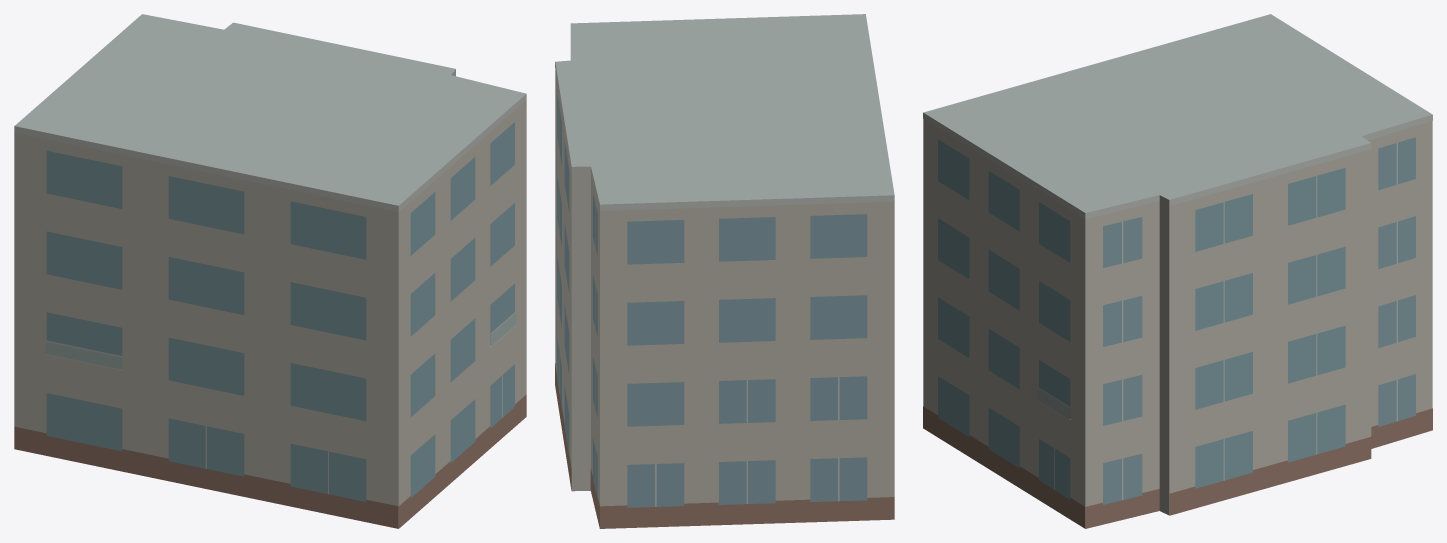
Rendered from survey-upis-32615994.glb.
The picture shows the model from 3 angles, left to right: view 1: azimuth 30°, elevation 25°; view 2: azimuth 150°, elevation 25°; view 3: azimuth 270°, elevation 25°; orthographic projection. The views are drawn at different scales.
Visible parts, largest first — view 1: survey-upis-32615994.tmp; view 2: survey-upis-32615994.tmp; view 3: survey-upis-32615994.tmp.
Part boxes in pixels (x1,y1,x2,y2): survey-upis-32615994.tmp: (14, 14, 526, 528); survey-upis-32615994.tmp: (555, 14, 894, 528); survey-upis-32615994.tmp: (923, 14, 1432, 528).
Bounding box in the file's own units: 16.78 × 12.4 × 18.14.
